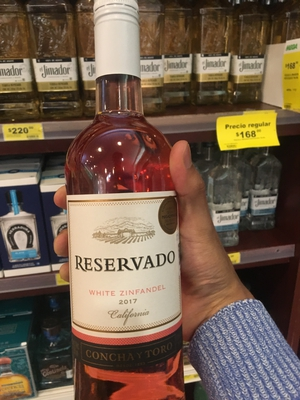reservado white zinfandel: (59, 4, 194, 400)
